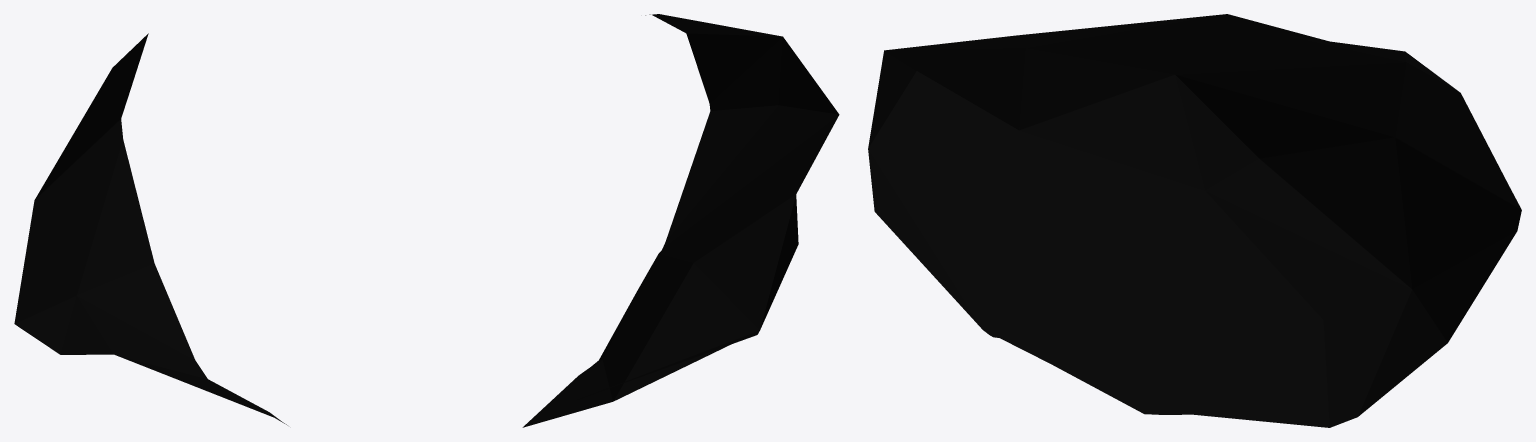
3 views of the same model, side by side, from view 1: azimuth 30°, elevation 25°; view 2: azimuth 150°, elevation 25°; view 3: azimuth 270°, elevation 25° (orthographic). The views are drawn at different scales.
Size of the model in its own units: 0.1777 by 0.272 by 0.3917.
Materials: 1 (1 with a texture image).
